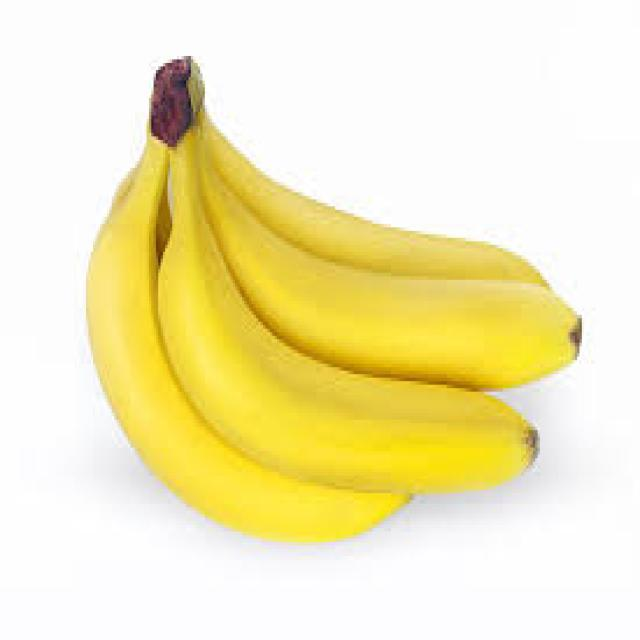Banana: (157, 130, 534, 491), (89, 135, 406, 540), (203, 142, 576, 386), (201, 119, 544, 283)
